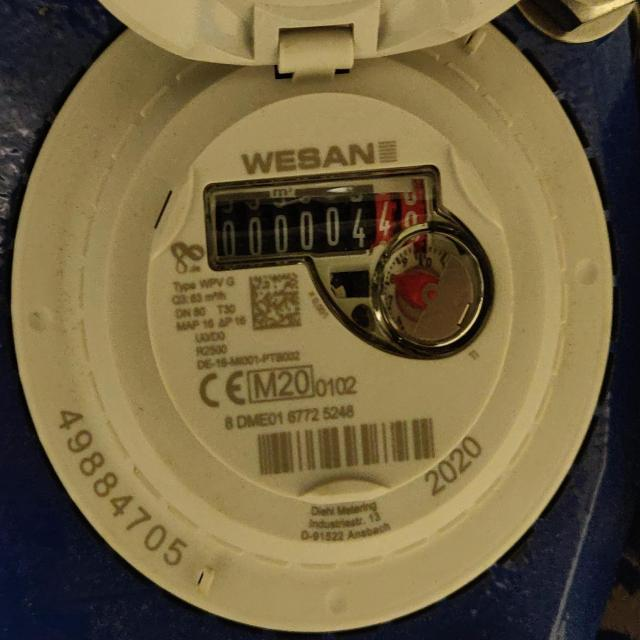gaz_meter: (147, 87, 517, 508)
indication: (203, 171, 438, 271)
